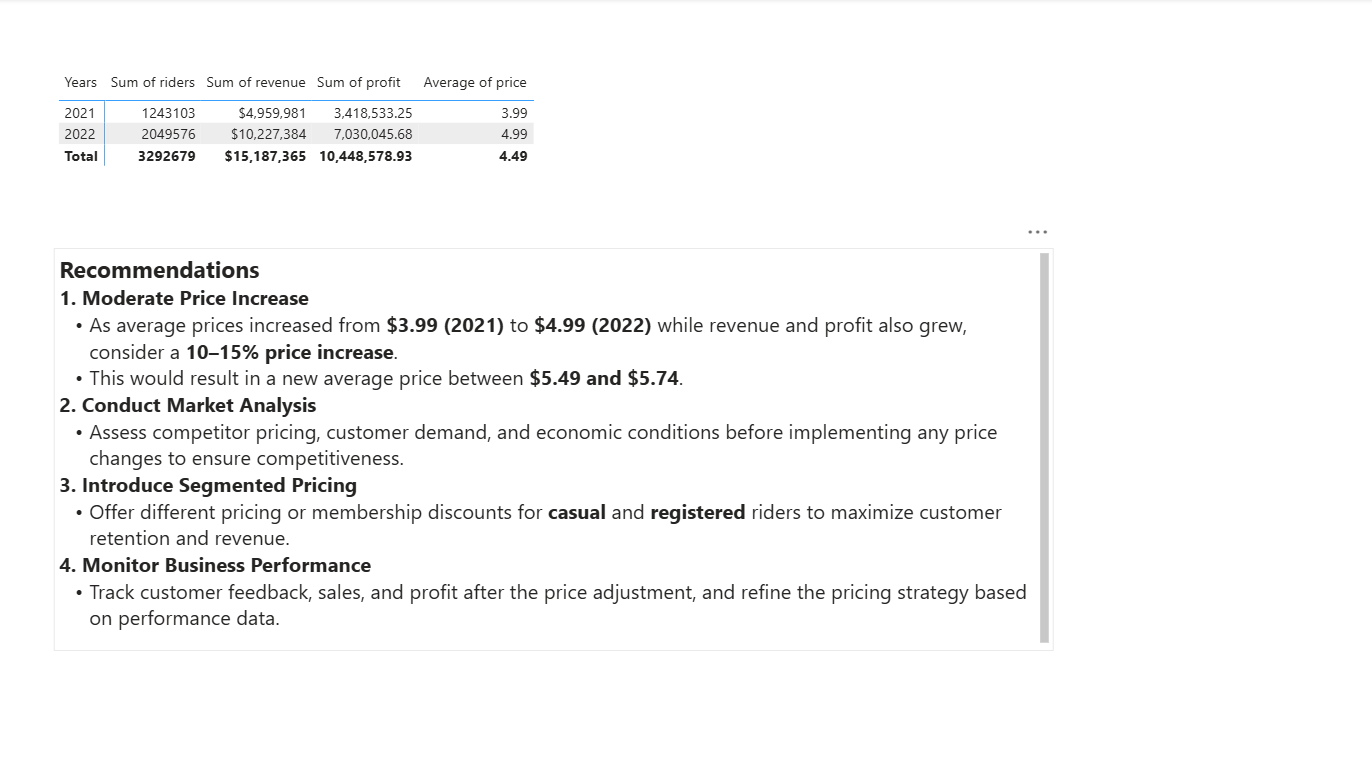

This screenshot's page, from the dashboard's own definition file:
{"tool":"powerbi","page":{"name":"analysis","canvas":[1280,720],"ordinal":1},"visuals":[{"type":"pivotTable","fields":{"Rows":["Query1.Years"],"Values":["Sum(Query1.riders)","Sum(Query1.revenue)","Sum(Query1.profit)","Avg(Query1.price)"]},"box":[50.1,61.1,643.2,144.3],"z":0},{"type":"textbox","box":[50.1,232.3,930.6,375.4],"z":1000}]}

Visuals, with their boxes in screenshot pixels (x1, y1, x2, y2), scaled from the page's 1280x720 canvas onto the 1372x767 screenshot:
pivotTable - Query1.Years x Sum(Query1.riders): select_region(54, 65, 743, 219)
textbox: select_region(54, 247, 1051, 647)
